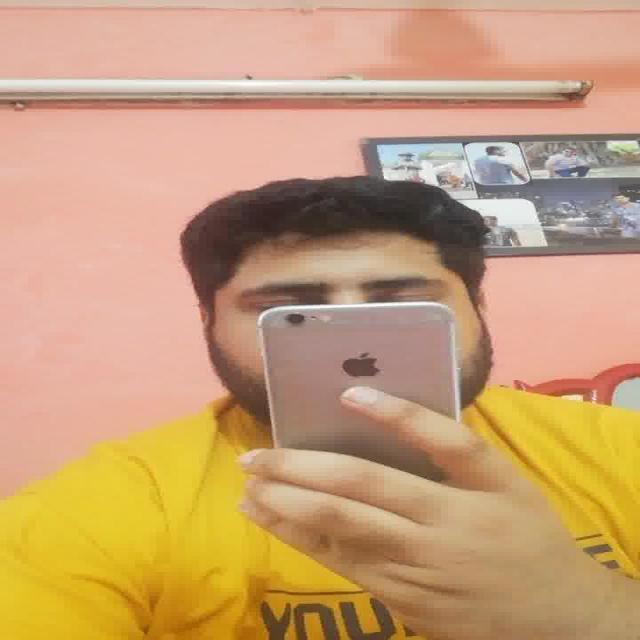Phone: (255, 302, 464, 448)
